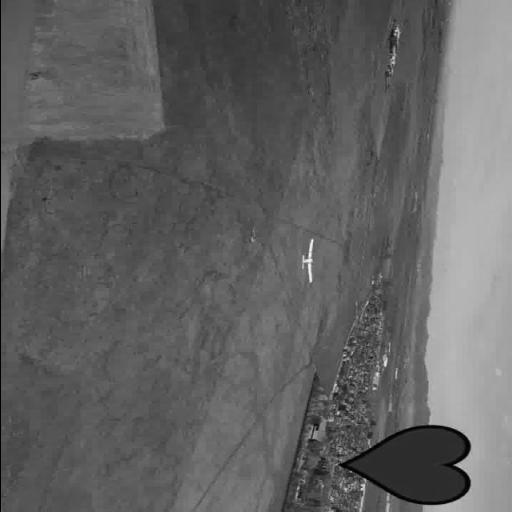uav: (291, 239, 317, 286)
